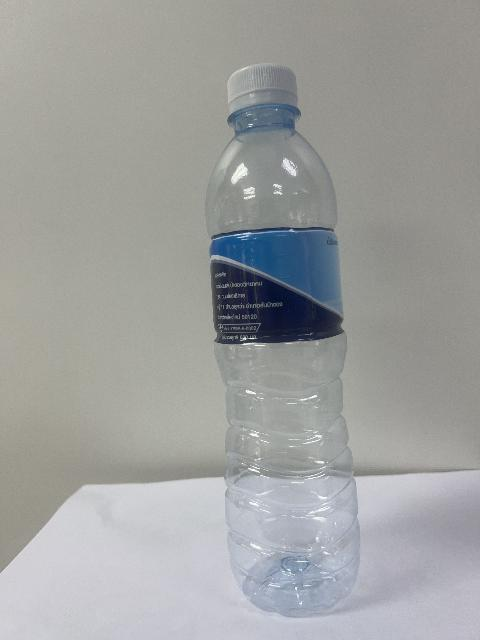bottle: (206, 64, 359, 616)
